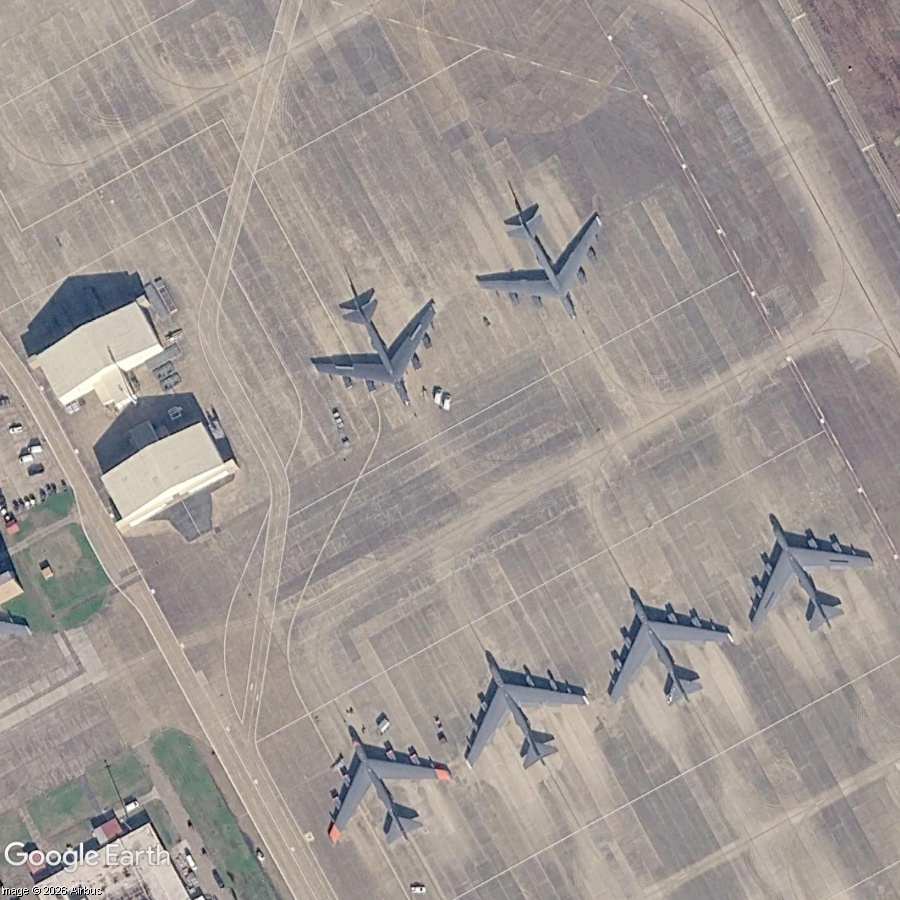Máy bay ném bom: (452, 176, 641, 359), (711, 487, 895, 665), (291, 263, 473, 439), (429, 628, 609, 799), (572, 567, 752, 736), (296, 704, 467, 869)
Nhà/Hầm chứa máy bay: (21, 288, 183, 431), (84, 403, 246, 546)
